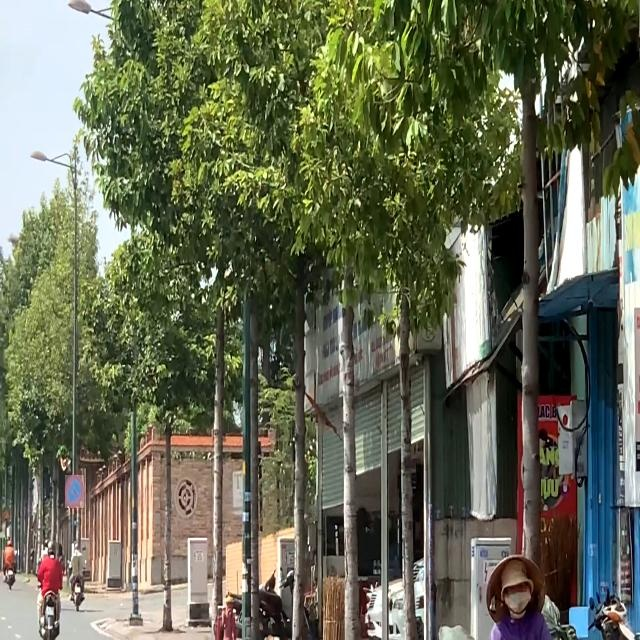bien_cam: (65, 475, 84, 508)
